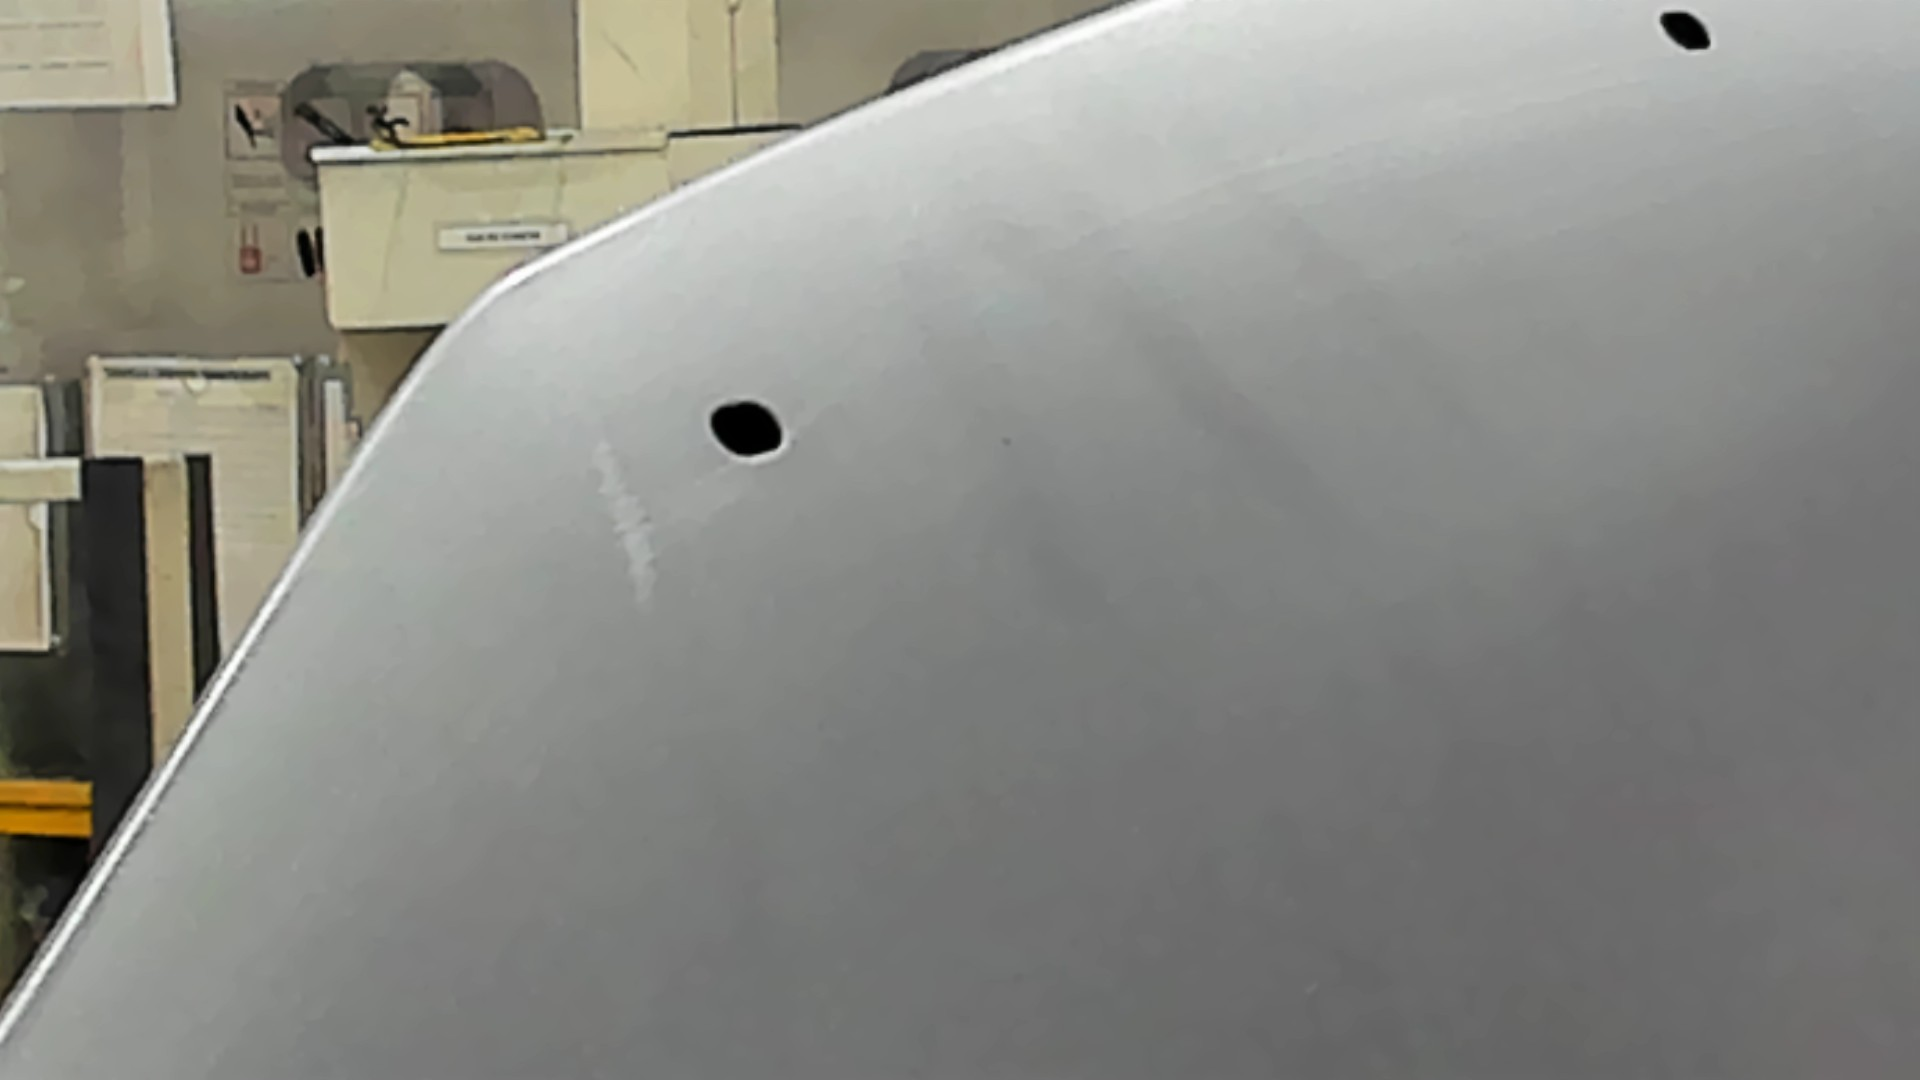Agujero: (708, 400, 785, 459), (1658, 7, 1713, 51)
